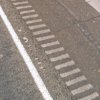crosswalk: (11, 0, 98, 100)
